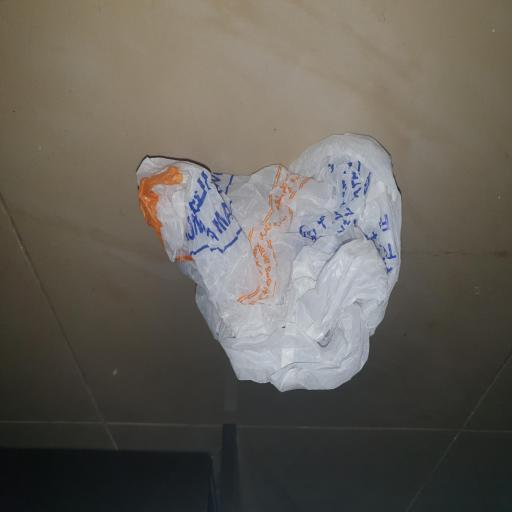plastic bag: (135, 133, 404, 392)
